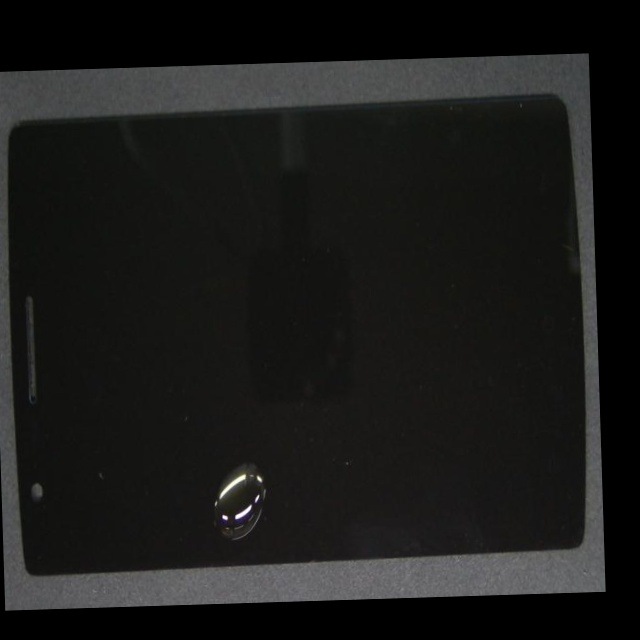oil: (126, 302, 400, 607)
